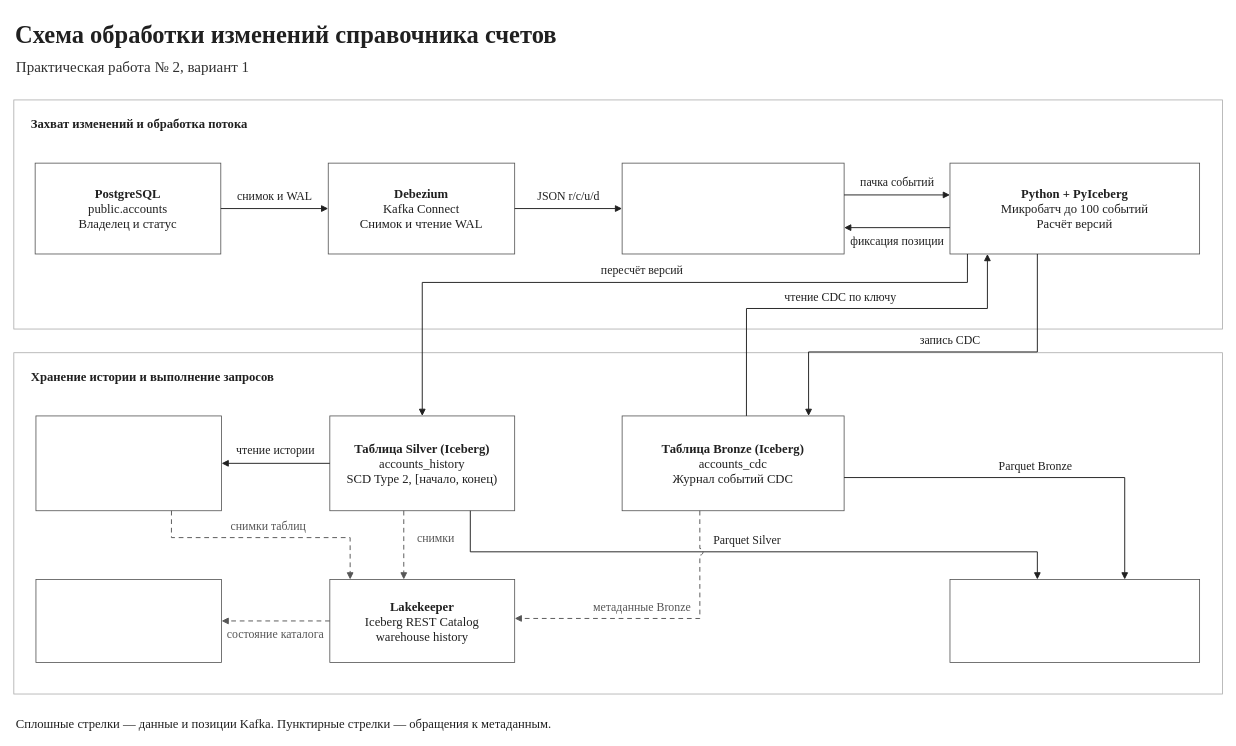
The diagram is 1236 pixels wide and 746 high, and some of its shapes have lost their labels. The shapes that lost their labels are listed below. From the top down, each one's box as (x1, y1, x2, y2) in pixels, then its label:
(621, 162, 844, 254): Apache Kafka bank.public.accounts Одна партиция, ключ account_id
(35, 415, 222, 511): Trino Текущее состояние и запрос на дату
(35, 579, 222, 662): PostgreSQL каталога Таблицы и состояние REST-каталога
(949, 579, 1200, 662): Silo (хранилище S3) Parquet и метаданные бакет lab2-history
